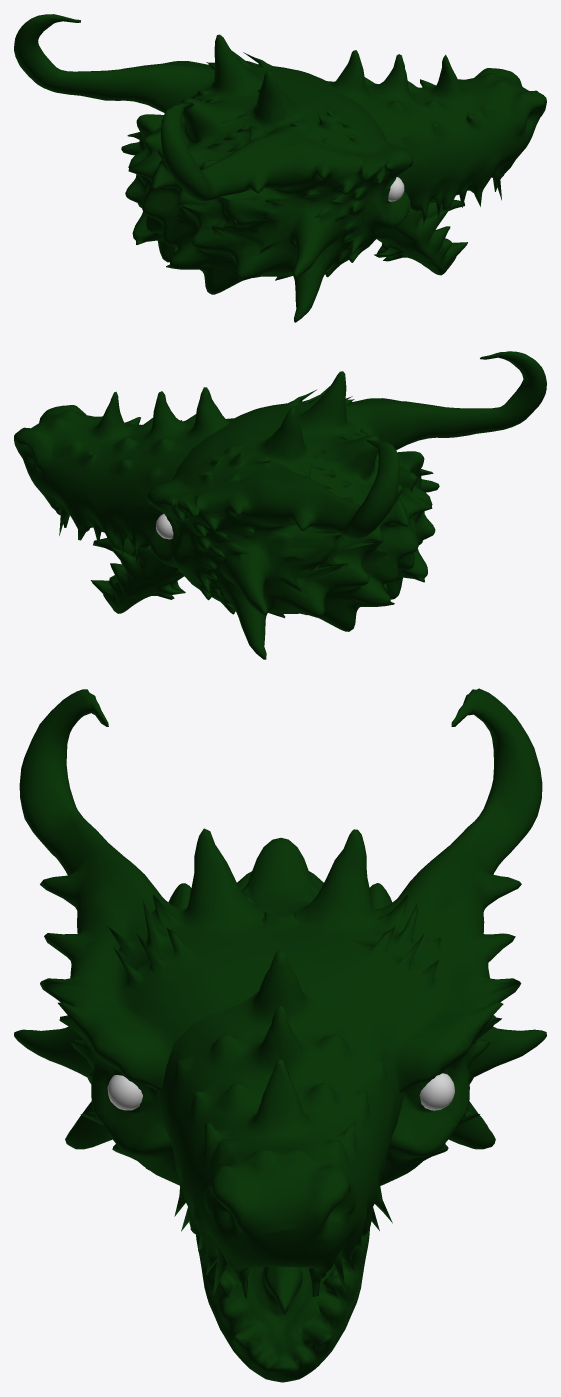
Rendered from dragonDecoration.obj.
3 views of the same model, one above another, from view 1: azimuth 30°, elevation 25°; view 2: azimuth 150°, elevation 25°; view 3: azimuth 270°, elevation 25° (orthographic). The views are drawn at different scales.
Parts seen in each view (by area): view 1: sountU_Sphere.002, snoutB_Sphere.003; view 2: sountU_Sphere.002, snoutB_Sphere.003; view 3: sountU_Sphere.002, snoutB_Sphere.003.
Part boxes in pixels (<box>): sountU_Sphere.002: <box>14,14,546,322</box>; snoutB_Sphere.003: <box>374,199,467,275</box>; sountU_Sphere.002: <box>14,351,546,659</box>; snoutB_Sphere.003: <box>91,537,185,613</box>; sountU_Sphere.002: <box>14,688,546,1298</box>; snoutB_Sphere.003: <box>196,1228,369,1382</box>.
Bounding box in the file's own units: 3.42 × 2.16 × 2.33.
